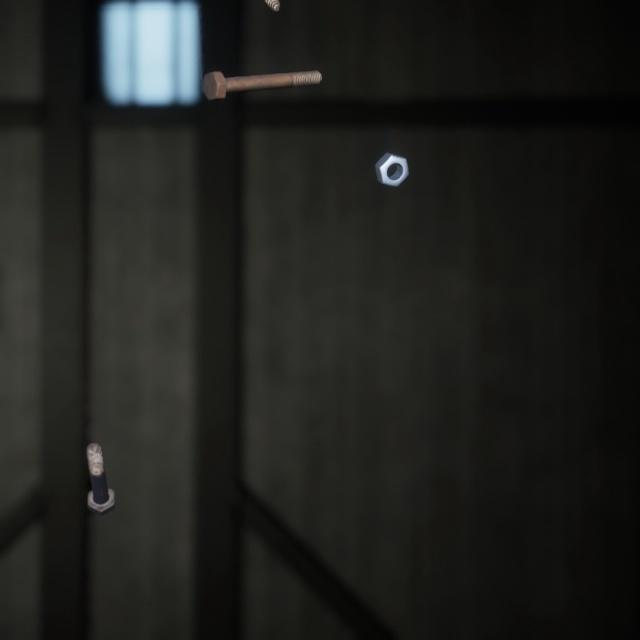bolt: (198, 55, 326, 93), (82, 416, 119, 499)
nut: (370, 135, 413, 178)
